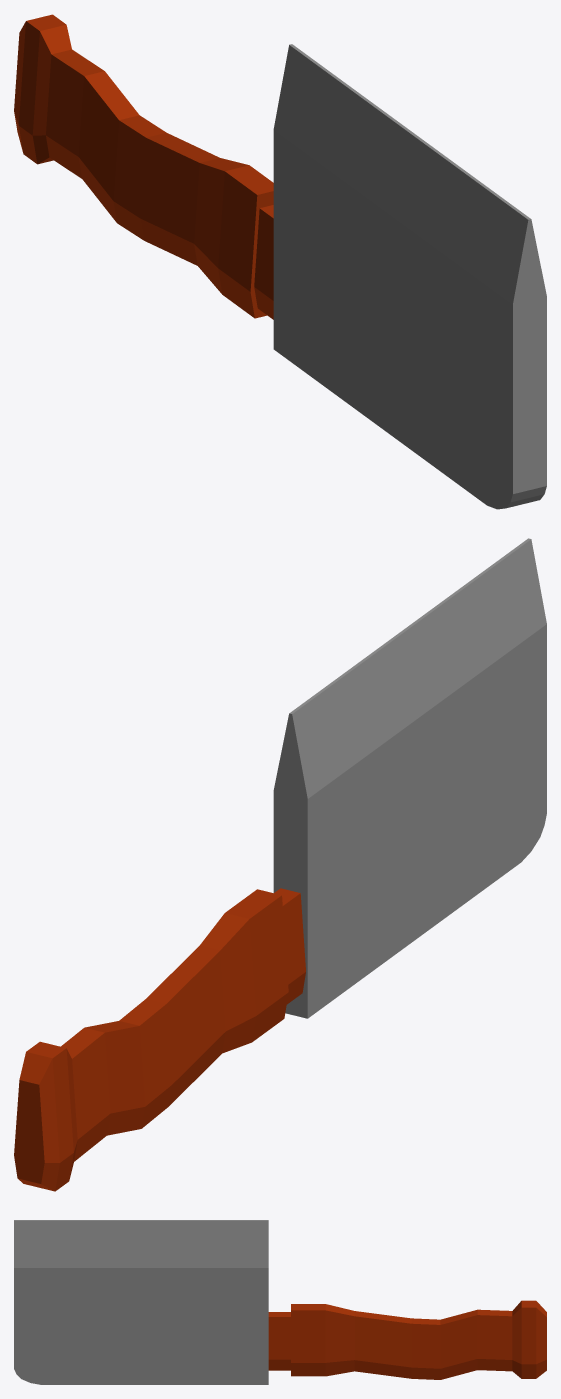
File: balta_update (1).fbx
3 views of the same model, one above another, from view 1: azimuth 30°, elevation 25°; view 2: azimuth 150°, elevation 25°; view 3: azimuth 270°, elevation 25° (orthographic). The views are drawn at different scales.
Parts seen in each view (by area): view 1: Cube, Plane; view 2: Cube, Plane; view 3: Cube, Plane.
Part boxes in pixels (x1=…): Cube: x1=273, y1=44, x2=546, y2=509; Plane: x1=14, y1=14, x2=273, y2=319; Cube: x1=273, y1=538, x2=546, y2=1018; Plane: x1=14, y1=888, x2=305, y2=1191; Cube: x1=14, y1=1220, x2=268, y2=1384; Plane: x1=268, y1=1300, x2=546, y2=1379.
Bounding box in the file's own units: 41.88 × 292 × 882.
